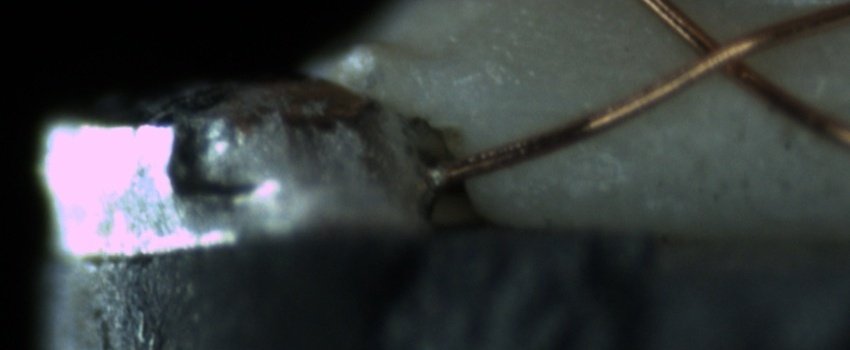CL: (675, 23, 769, 89)
